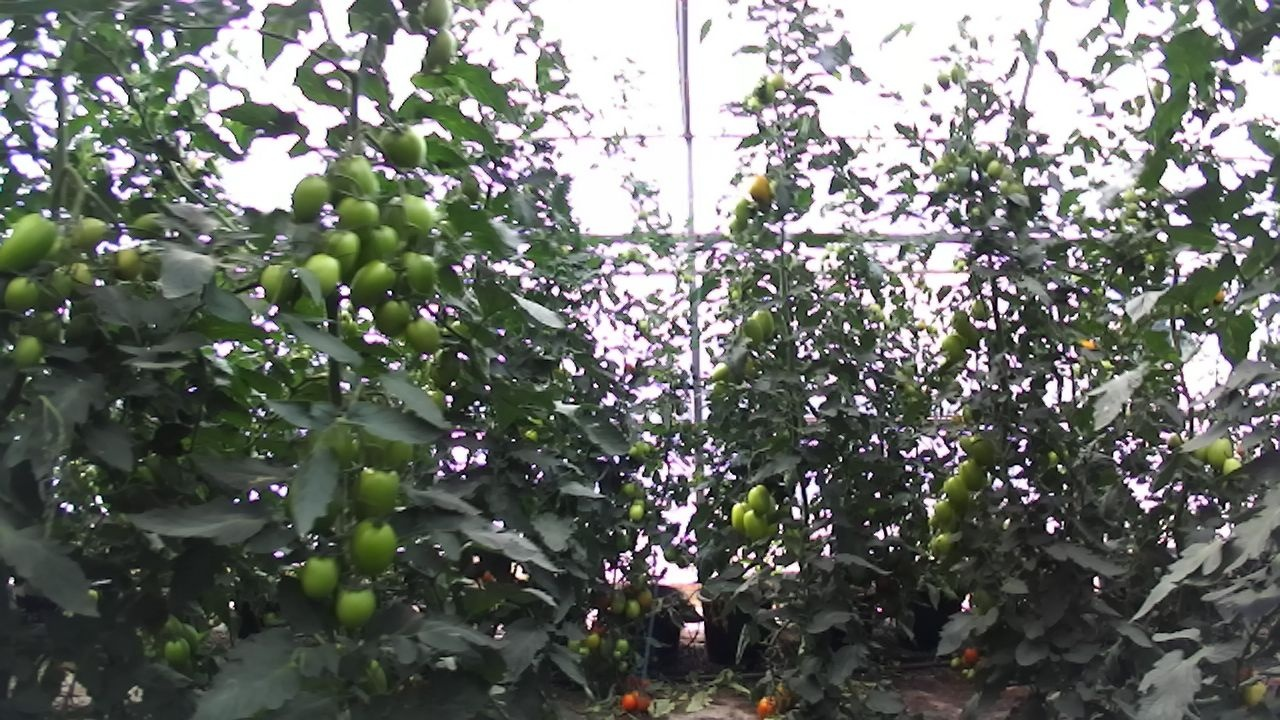tomato: (341, 502, 415, 588), (314, 146, 394, 219), (0, 199, 64, 283), (368, 111, 444, 180), (288, 540, 355, 615), (344, 452, 405, 529), (341, 250, 412, 316), (387, 241, 448, 312), (293, 241, 354, 309), (328, 571, 388, 639), (376, 185, 441, 246), (313, 216, 367, 285), (282, 165, 340, 229), (327, 187, 388, 247), (366, 284, 425, 345), (254, 250, 309, 312), (396, 307, 453, 366), (355, 216, 414, 269), (30, 260, 83, 317), (60, 305, 111, 358), (156, 621, 202, 678), (68, 205, 118, 256), (0, 268, 48, 321), (20, 302, 72, 350), (416, 21, 461, 74), (409, 0, 467, 40), (7, 327, 50, 376), (951, 452, 995, 499), (938, 470, 980, 512), (126, 205, 170, 244), (108, 245, 149, 285), (731, 313, 770, 353), (962, 430, 1000, 471), (727, 496, 762, 540), (133, 248, 171, 286), (746, 304, 783, 342), (1202, 432, 1238, 471), (744, 171, 779, 211), (928, 525, 964, 563), (740, 505, 775, 544), (742, 483, 777, 518), (936, 330, 972, 363), (626, 684, 658, 715), (751, 689, 783, 720), (1217, 449, 1247, 482), (930, 493, 959, 527), (707, 358, 738, 388), (965, 295, 996, 325), (751, 77, 782, 106), (926, 151, 957, 180), (606, 584, 630, 619), (951, 161, 977, 191), (628, 436, 654, 465), (633, 583, 658, 613), (766, 69, 793, 95), (958, 642, 984, 668), (621, 595, 645, 623), (581, 628, 605, 654), (618, 689, 642, 714), (984, 155, 1008, 180), (625, 500, 648, 525), (934, 69, 955, 92), (619, 479, 641, 500), (612, 634, 632, 656)
